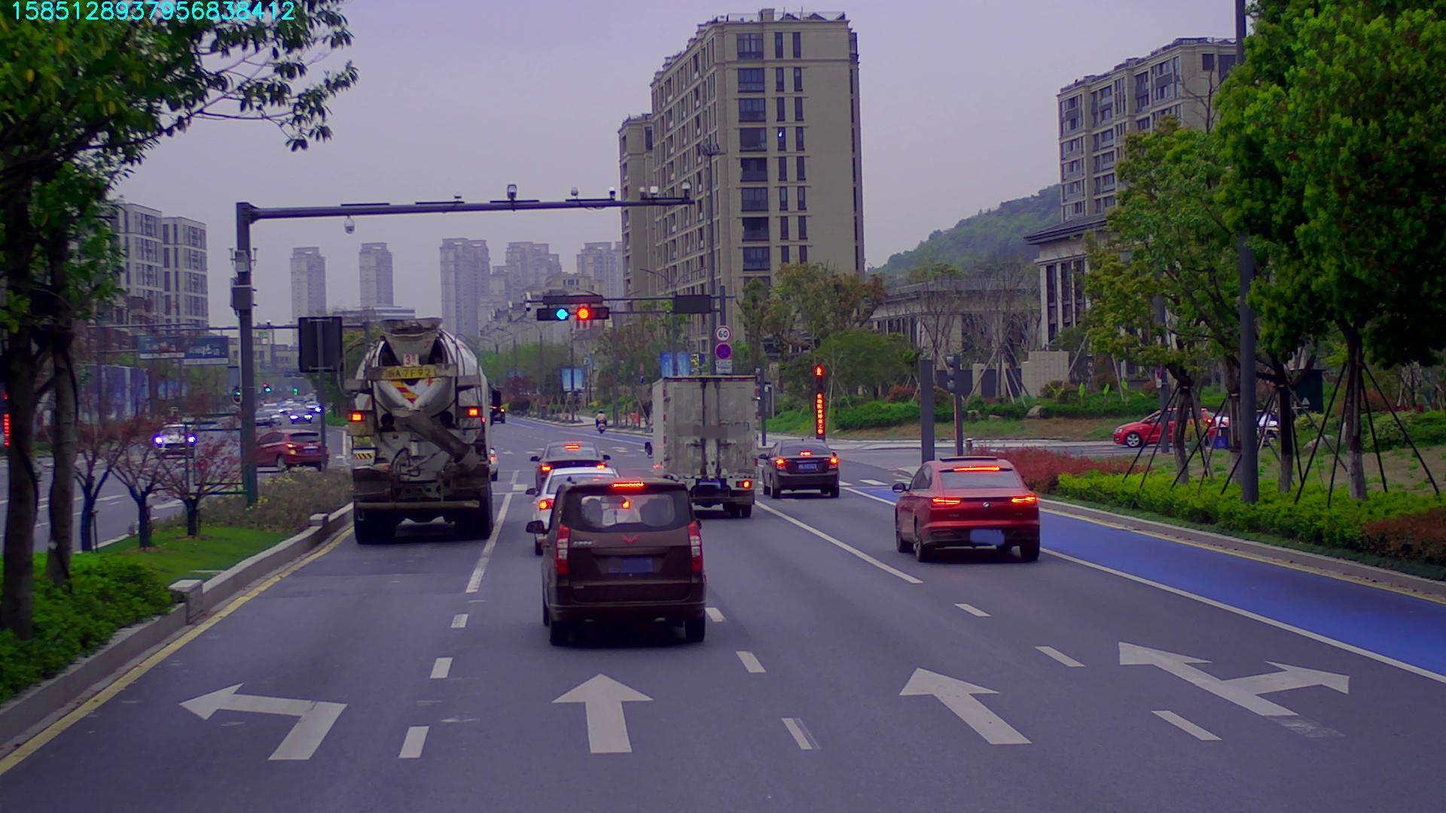green: (534, 306, 572, 324)
red: (573, 306, 613, 321)
